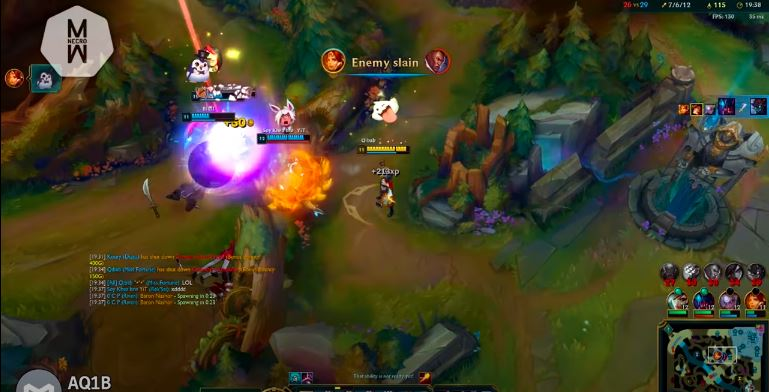bar: (255, 131, 312, 146), (355, 142, 412, 156), (182, 111, 239, 124), (189, 92, 255, 102)
